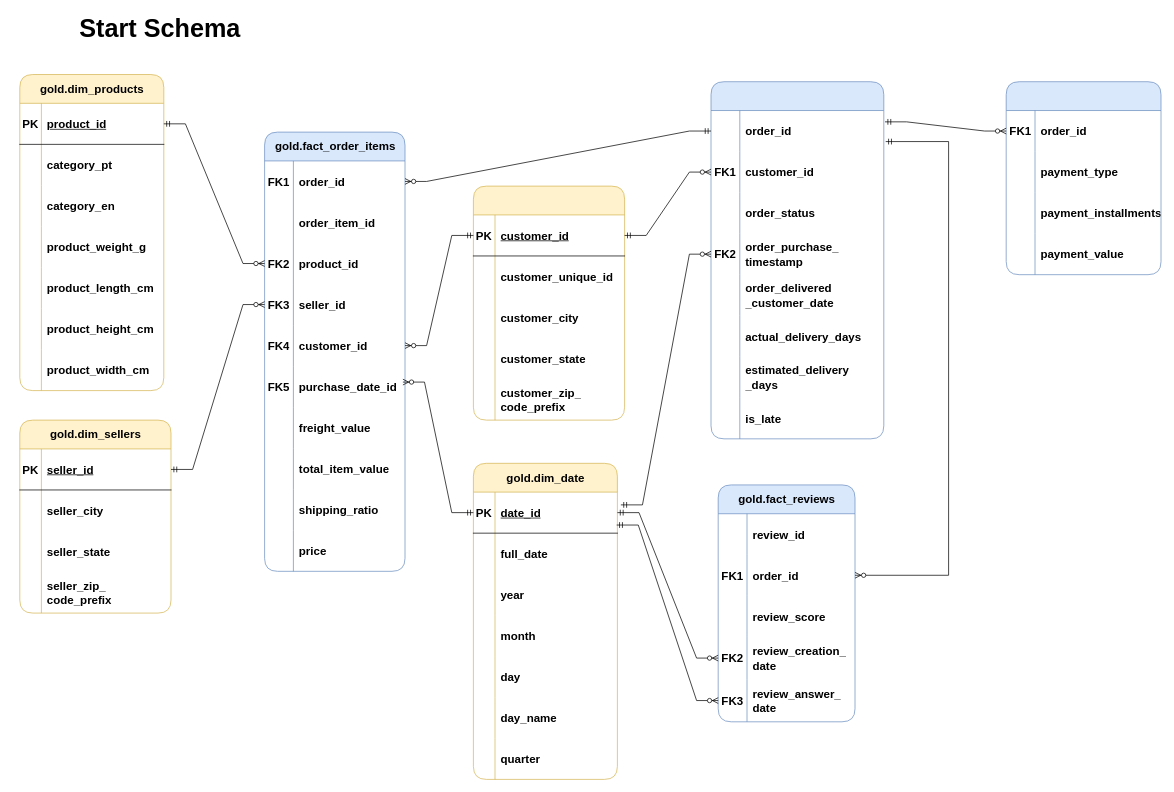
Image size: 1174x792. Some labels were removed from this diagram. The shapes that lost their labels are listed below. From the top down, each one's box as (x1, y1, x2, y2) in pixels, then its label:
(1005, 81, 1161, 275): gold.fact_payments
(710, 81, 884, 439): gold.fact_orders
(473, 185, 625, 420): gold.dim_customers
